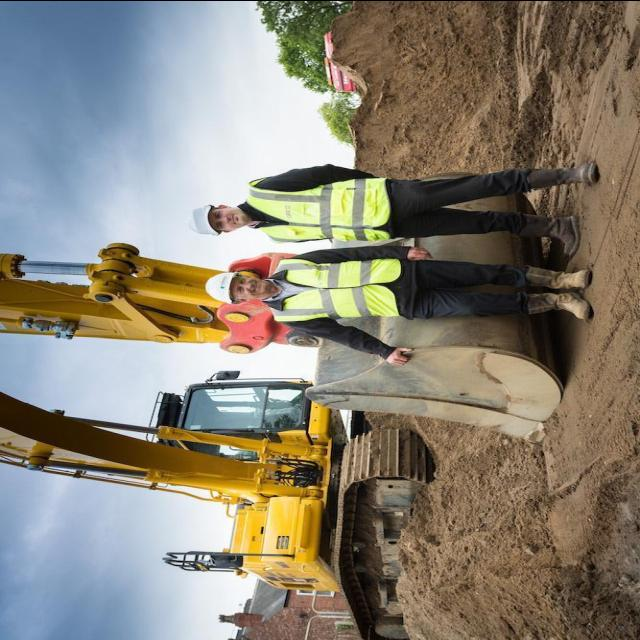helmet: (182, 194, 222, 244), (198, 266, 244, 308)
jacket: (244, 168, 394, 244), (266, 252, 402, 330)
